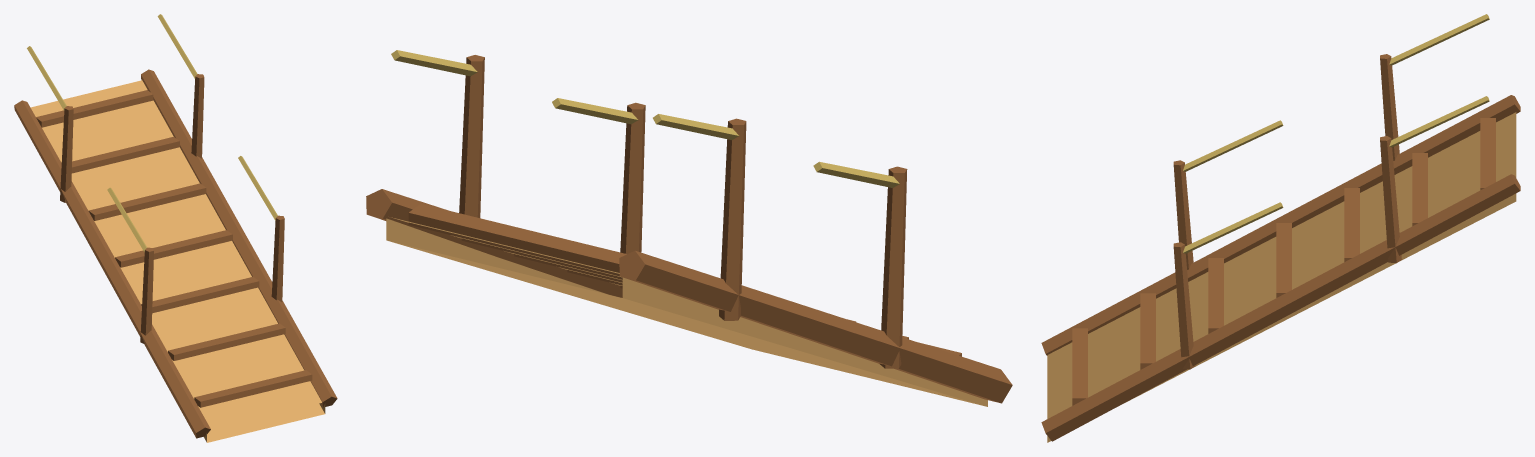
File: ship_boarding_ramp.glb
3 renders of one model, left to right at view 1: azimuth 30°, elevation 25°; view 2: azimuth 150°, elevation 25°; view 3: azimuth 270°, elevation 25°, orthographic. The views are drawn at different scales.
Visible parts, largest first — view 1: Ramp_Deck_Top, Ramp_Kerb_1, Ramp_Kerb_2, Ramp_Deck_Under, Ramp_Cleat_1, Ramp_Cleat_2, Ramp_Cleat_5, Ramp_Cleat_6, Ramp_Cleat_3, Ramp_Cleat_4, Ramp_Cleat_7, Ramp_Stanchion_1 (+7 smaller); view 2: Ramp_Kerb_1, Ramp_Cleat_7, Ramp_Deck_Edge_1, Ramp_Deck_Under, Ramp_Stanchion_3, Ramp_Stanchion_1, Ramp_Stanchion_4, Ramp_Kerb_2, Ramp_Stanchion_2, Ramp_Deck_Edge_2, Ramp_Rope_2, Ramp_Rope_3 (+3 smaller); view 3: Ramp_Deck_Top, Ramp_Kerb_2, Ramp_Kerb_1, Ramp_Deck_Edge_2, Ramp_Stanchion_4, Ramp_Stanchion_2, Ramp_Cleat_1, Ramp_Stanchion_1, Ramp_Cleat_2, Ramp_Cleat_3, Ramp_Stanchion_3, Ramp_Cleat_4 (+7 smaller).
Part boxes in pixels (x1,y1,x2,y2): Ramp_Deck_Top: [30, 80, 321, 429]; Ramp_Kerb_1: [14, 100, 210, 438]; Ramp_Kerb_2: [141, 69, 337, 407]; Ramp_Deck_Under: [207, 403, 324, 442]; Ramp_Cleat_1: [194, 370, 312, 407]; Ramp_Cleat_2: [168, 323, 285, 360]; Ramp_Cleat_5: [88, 183, 206, 220]; Ramp_Cleat_6: [71, 136, 179, 173]; Ramp_Cleat_3: [141, 277, 259, 313]; Ramp_Cleat_4: [115, 230, 232, 267]; Ramp_Cleat_7: [36, 90, 153, 127]; Ramp_Stanchion_1: [140, 247, 153, 344]; Ramp_Kerb_1: [619, 250, 1012, 403]; Ramp_Cleat_7: [408, 204, 626, 276]; Ramp_Deck_Edge_1: [622, 277, 987, 406]; Ramp_Deck_Under: [390, 241, 984, 406]; Ramp_Stanchion_3: [719, 118, 746, 320]; Ramp_Stanchion_1: [880, 166, 907, 368]; Ramp_Stanchion_4: [459, 55, 484, 217]; Ramp_Kerb_2: [366, 189, 622, 297]; Ramp_Stanchion_2: [620, 102, 645, 254]; Ramp_Deck_Edge_2: [386, 218, 606, 294]; Ramp_Rope_2: [552, 98, 638, 124]; Ramp_Rope_3: [653, 114, 738, 139]; Ramp_Deck_Top: [1047, 112, 1516, 418]; Ramp_Kerb_2: [1041, 174, 1520, 441]; Ramp_Kerb_1: [1041, 95, 1520, 355]; Ramp_Deck_Edge_2: [1047, 193, 1516, 442]; Ramp_Stanchion_4: [1380, 136, 1401, 263]; Ramp_Stanchion_2: [1173, 242, 1195, 369]; Ramp_Cleat_1: [1072, 328, 1087, 405]; Ramp_Stanchion_1: [1173, 160, 1193, 269]; Ramp_Cleat_2: [1140, 293, 1155, 369]; Ramp_Cleat_3: [1208, 258, 1223, 333]; Ramp_Stanchion_3: [1380, 54, 1399, 160]; Ramp_Cleat_4: [1276, 223, 1291, 297].
Bounding box in the file's own units: 1.34 × 2.48 × 3.06.
